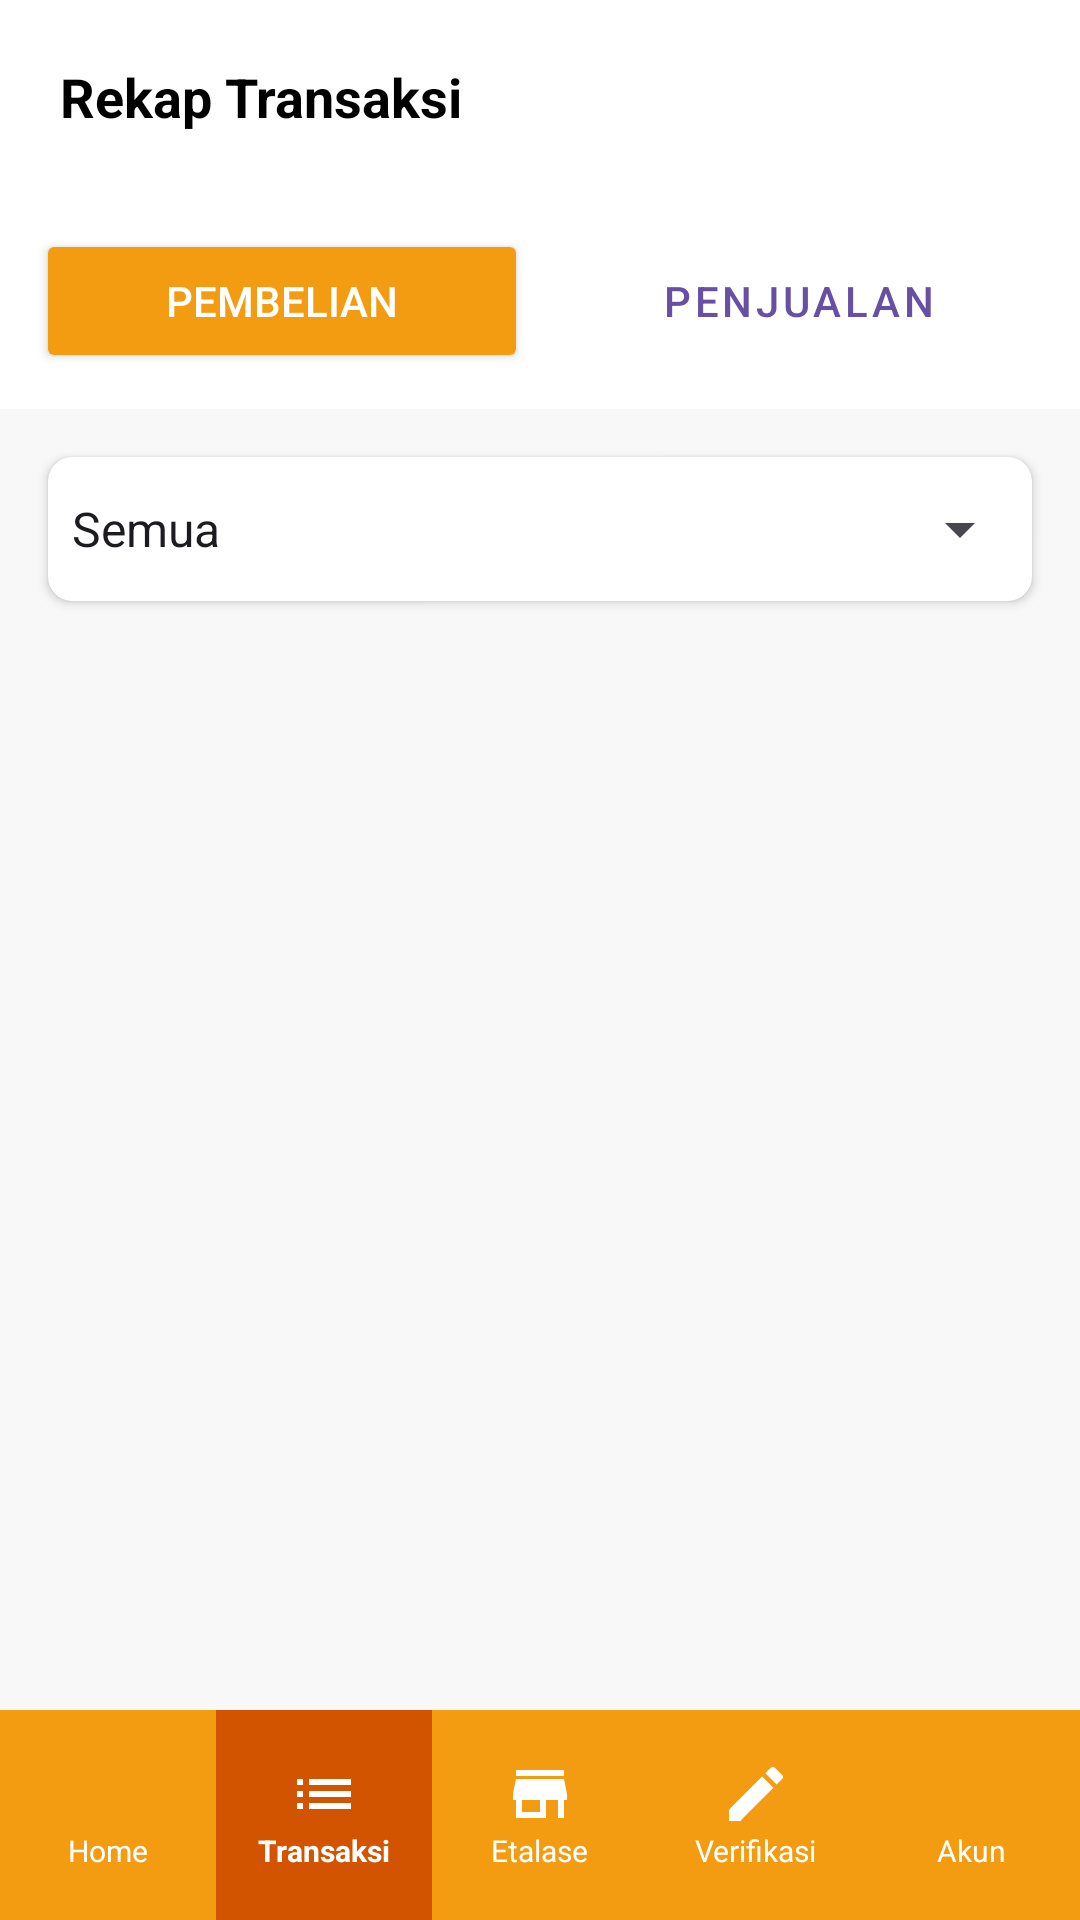

Icons on this 1080 x 1920 Android screen, each with the point to tap as (x=x, y=y):
edit: (x=756, y=1794)
list: (x=324, y=1794)
store: (x=540, y=1794)
